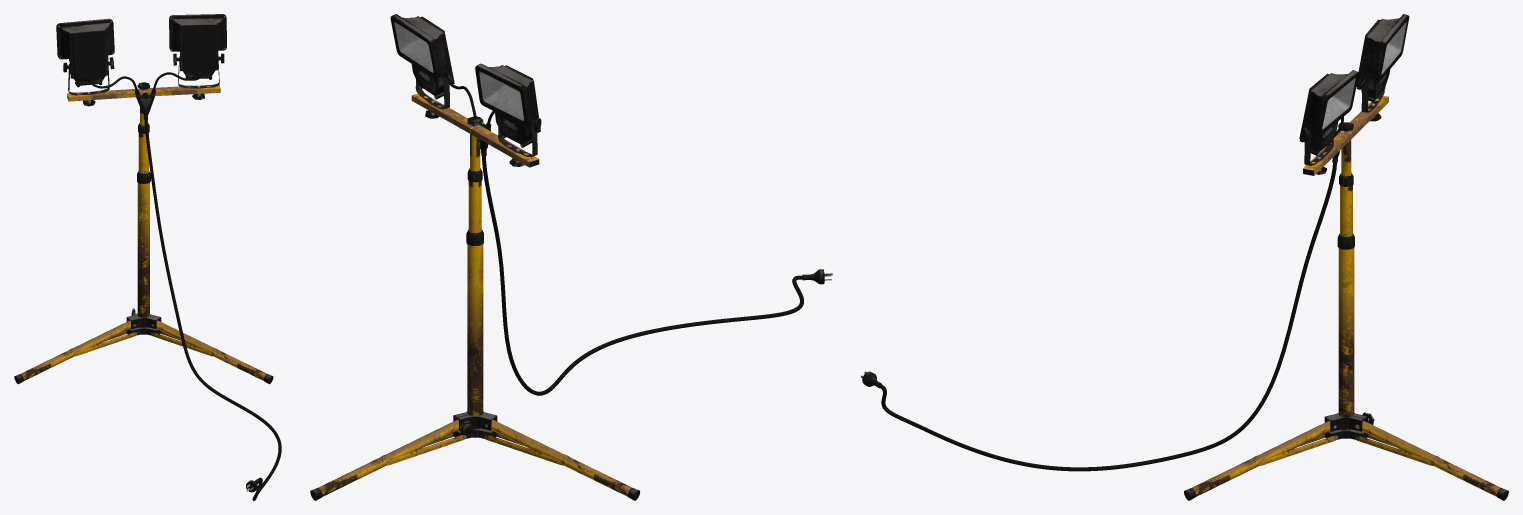
Rendered from industrial_work_light.gltf.
The picture shows the model from 3 angles, left to right: view 1: azimuth 30°, elevation 25°; view 2: azimuth 150°, elevation 25°; view 3: azimuth 270°, elevation 25°; orthographic projection. The views are drawn at different scales.
Visible parts, largest first — view 1: Industrial Light; view 2: Industrial Light; view 3: Industrial Light.
Part boxes in pixels (box(x1,y1,x2,y2)): Industrial Light: box(14, 14, 281, 500); Industrial Light: box(310, 14, 832, 500); Industrial Light: box(861, 14, 1508, 500).
Bounding box in the file's own units: 71.57 × 111 × 158.
